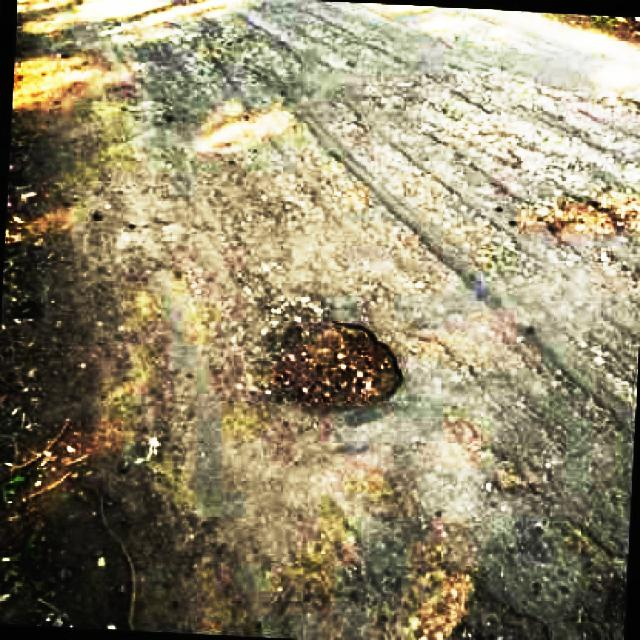pothole: (252, 312, 403, 412), (391, 578, 634, 640), (517, 184, 628, 242)
